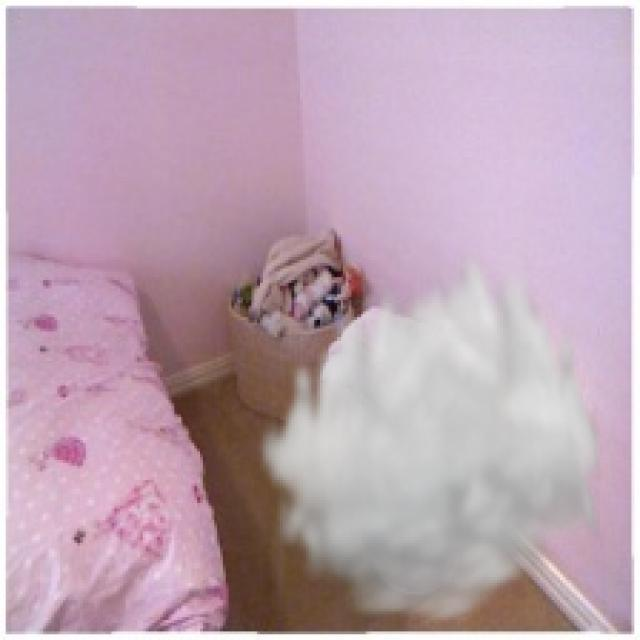Smoke: (254, 237, 606, 632)
